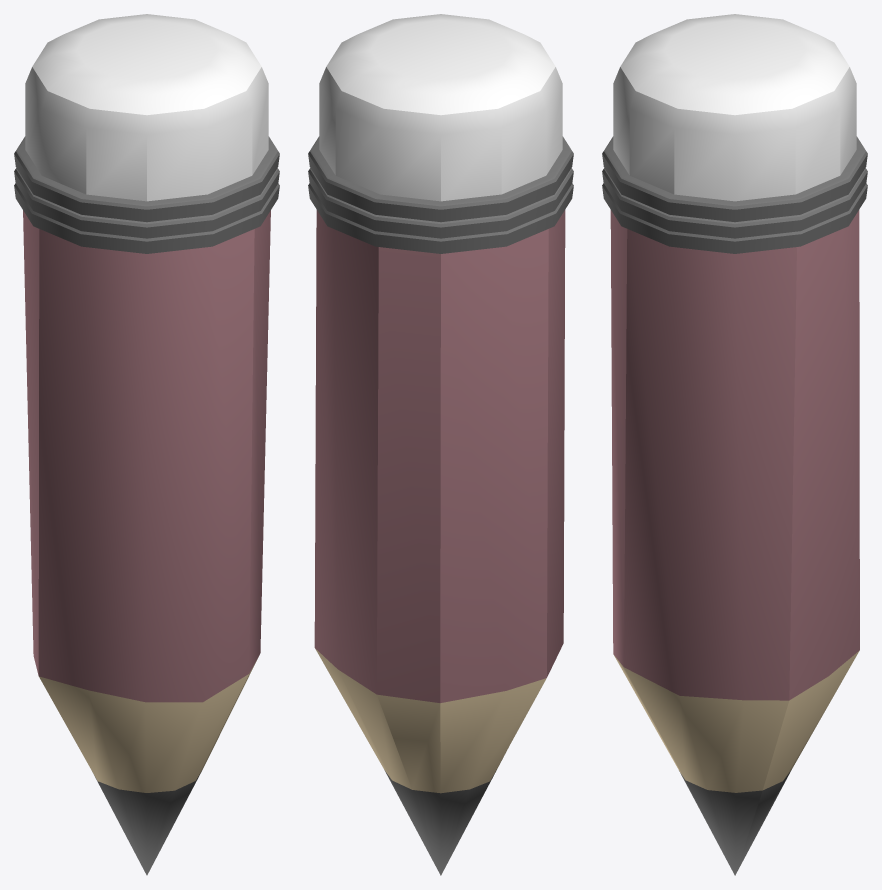
Rendered from Pencill_5.fbx.
3 views of the same model, side by side, from view 1: azimuth 30°, elevation 25°; view 2: azimuth 150°, elevation 25°; view 3: azimuth 270°, elevation 25° (orthographic).
Parts seen in each view (by area): view 1: Pencill_5; view 2: Pencill_5; view 3: Pencill_5.
Part boxes in pixels (x1,y1,x2,y2): Pencill_5: [14, 14, 279, 875]; Pencill_5: [308, 14, 573, 875]; Pencill_5: [602, 14, 867, 875].
Bounding box in the file's own units: 0.0323 × 0.1107 × 0.0323.
